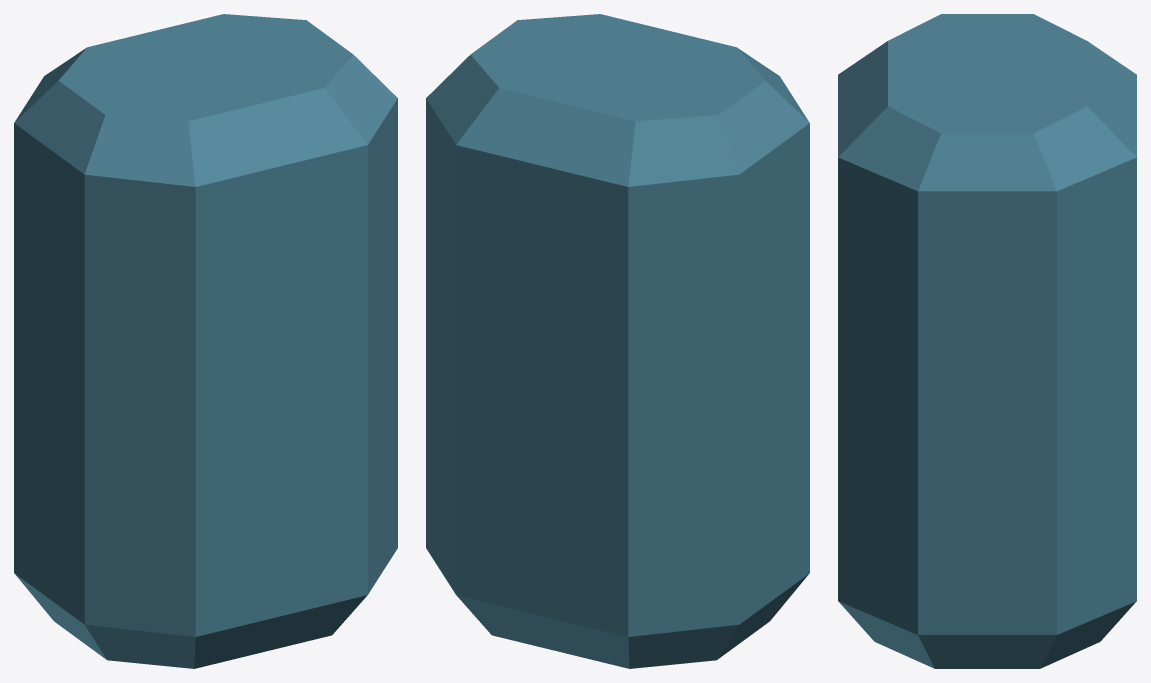
The model's file is SM_LP_RefinedMineral_6.fbx.
The picture shows the model from 3 angles, left to right: view 1: azimuth 30°, elevation 25°; view 2: azimuth 150°, elevation 25°; view 3: azimuth 270°, elevation 25°; orthographic projection.
Visible parts, largest first — view 1: SM_LP_RefinedMineral_6; view 2: SM_LP_RefinedMineral_6; view 3: SM_LP_RefinedMineral_6.
Part boxes in pixels (x1,y1,x2,y2): SM_LP_RefinedMineral_6: (14, 14, 397, 668); SM_LP_RefinedMineral_6: (426, 14, 809, 668); SM_LP_RefinedMineral_6: (838, 14, 1136, 668).
Size of the model in its own units: 0.2252 by 0.3726 by 0.1886.
